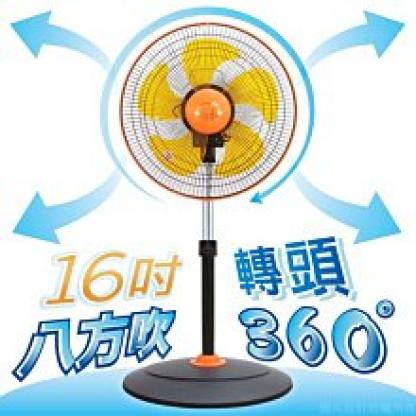fan: (109, 13, 312, 414)
